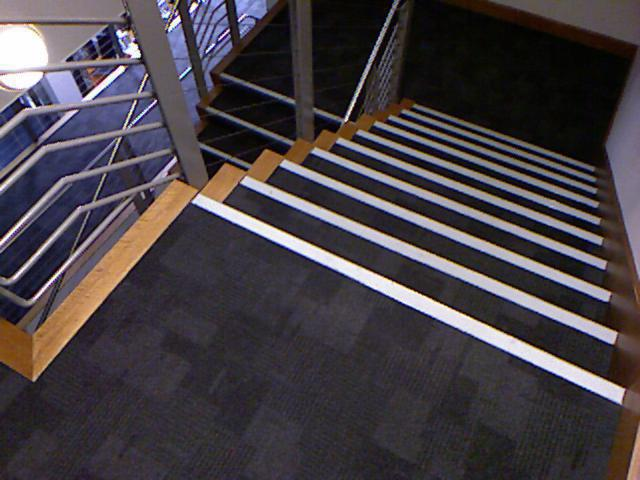Escaleras: (196, 93, 628, 399), (25, 79, 341, 383)
